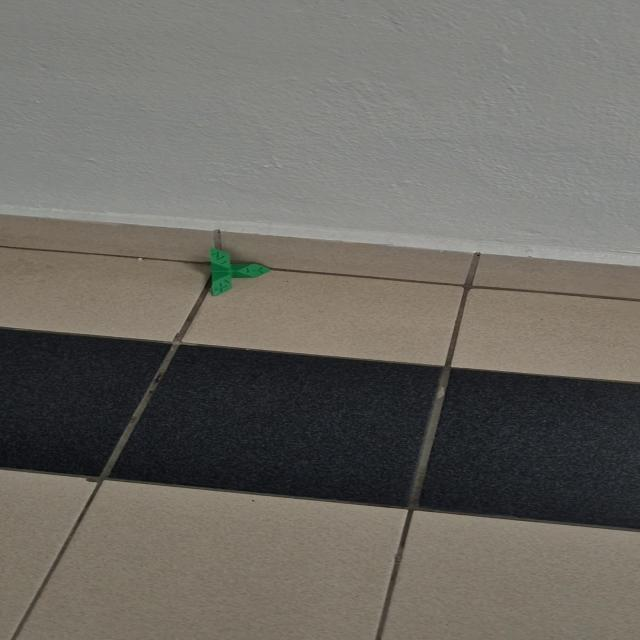objects: (208, 247, 272, 297)
